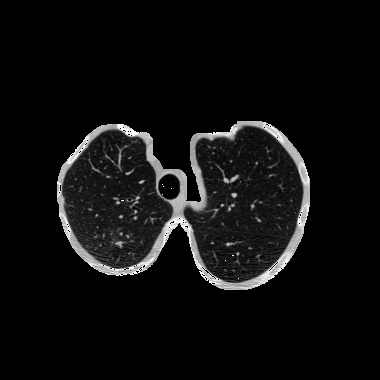PN: (116, 240, 122, 246)
